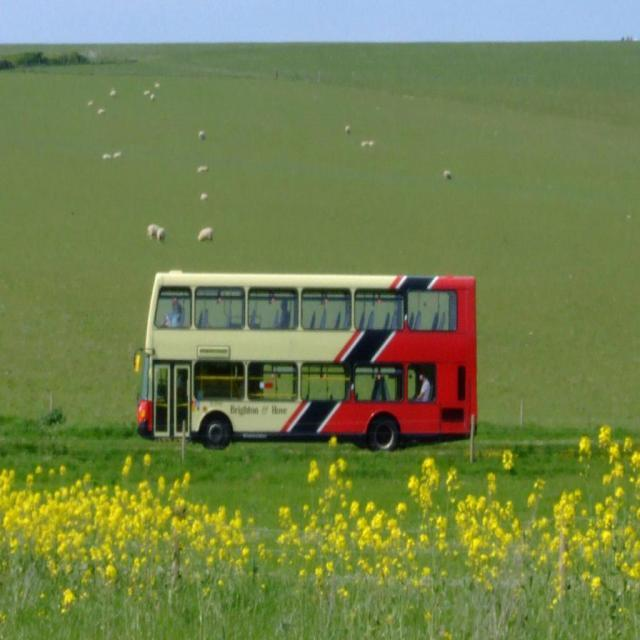motorcycle: (128, 268, 478, 452)
